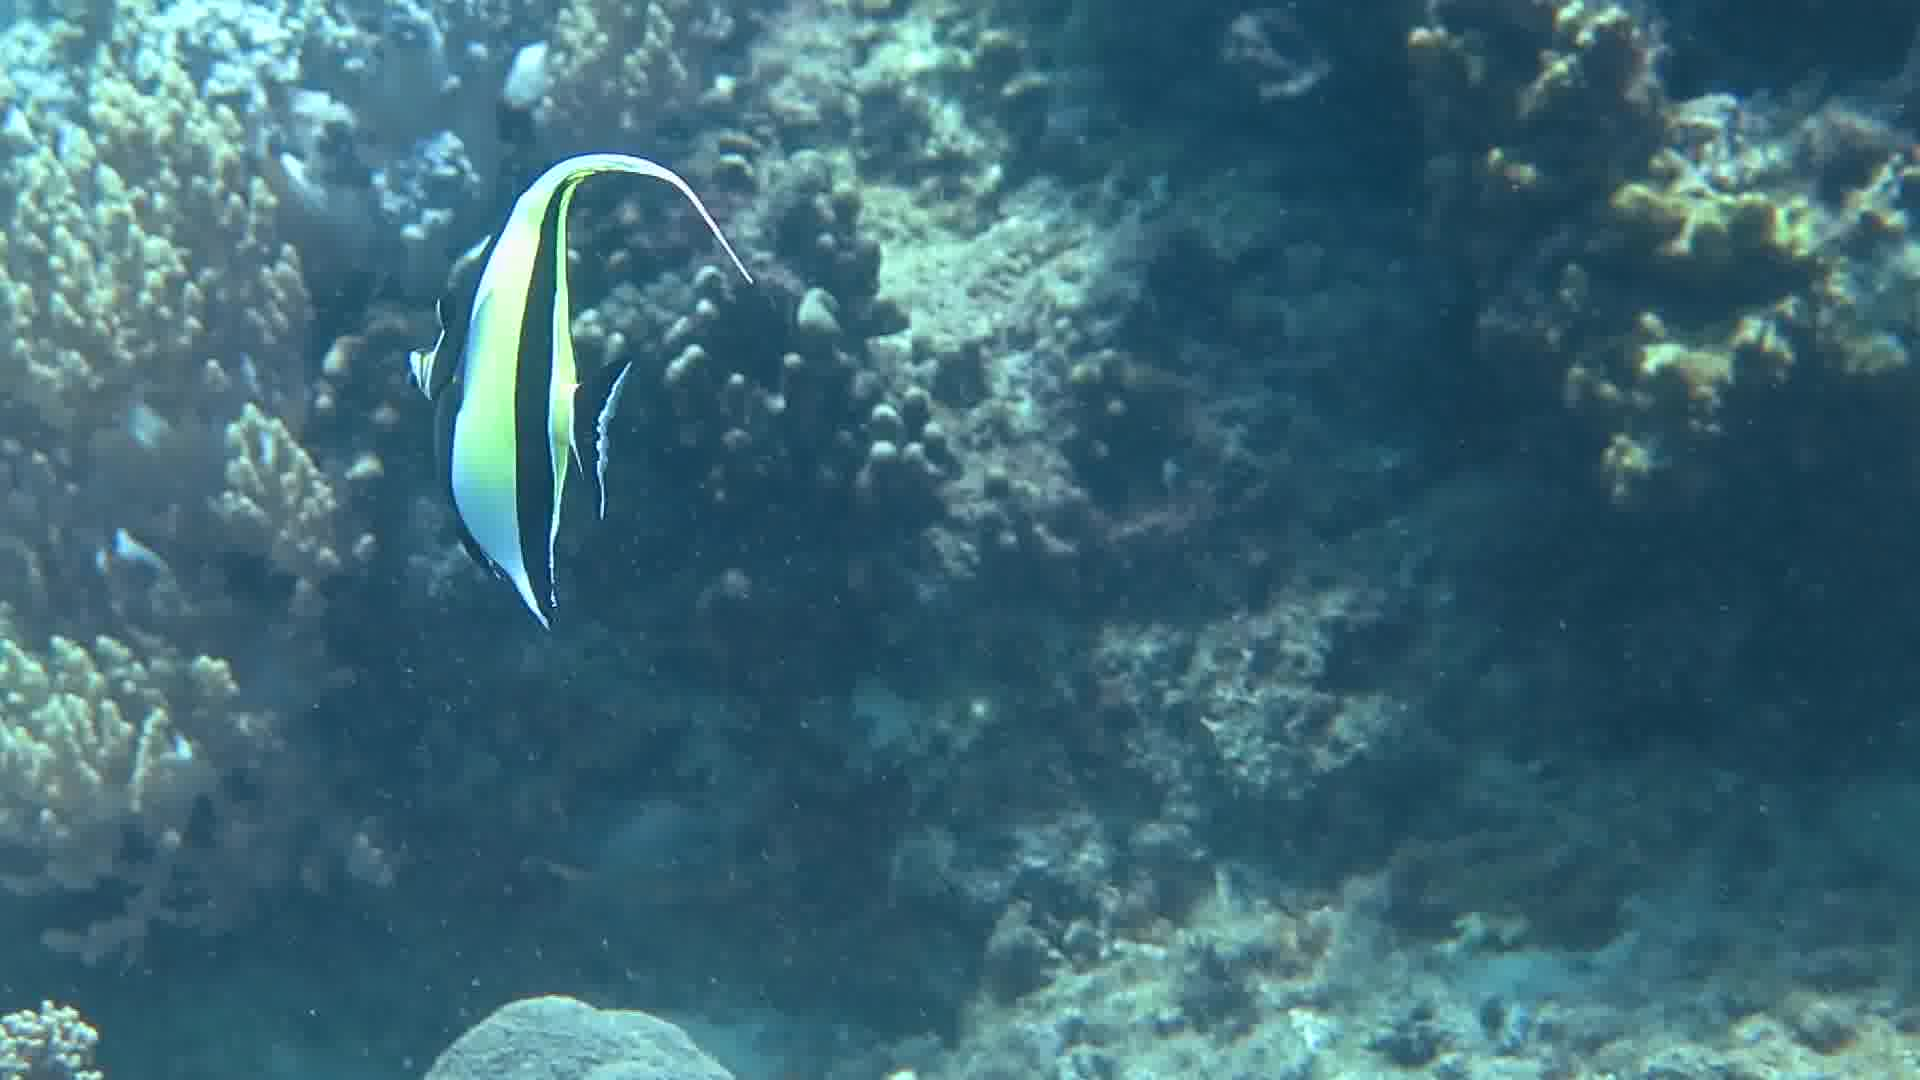Zanclus cornutus: (401, 109, 659, 662)
